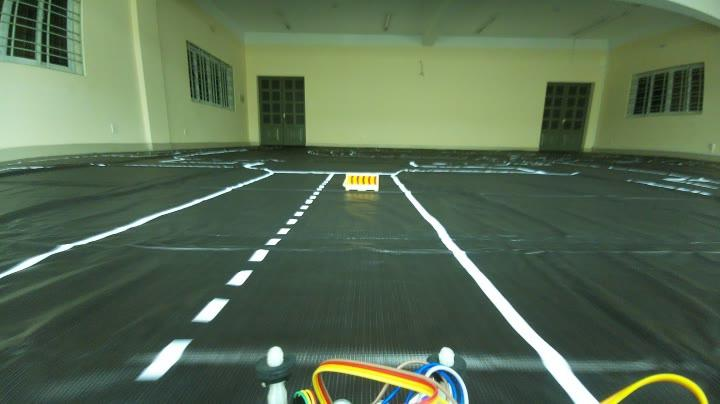roadblock: (336, 166, 384, 196)
